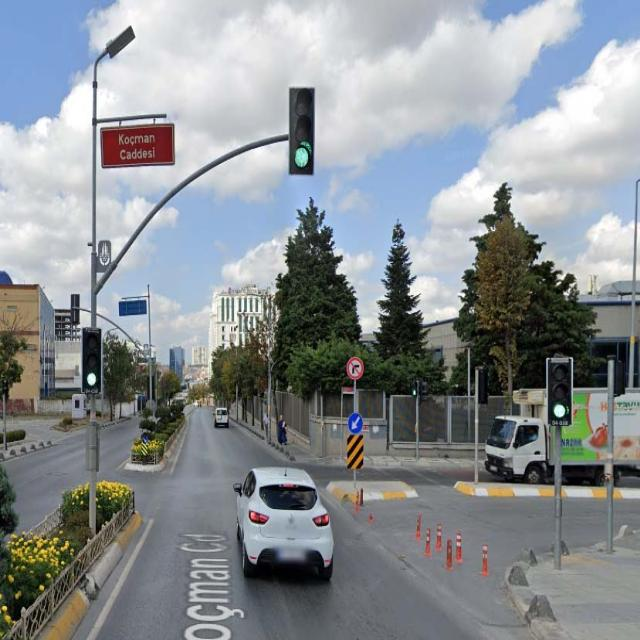sagadonulmez: (346, 357, 364, 378)
yesil: (288, 87, 313, 177), (546, 358, 571, 426), (84, 327, 102, 393)
